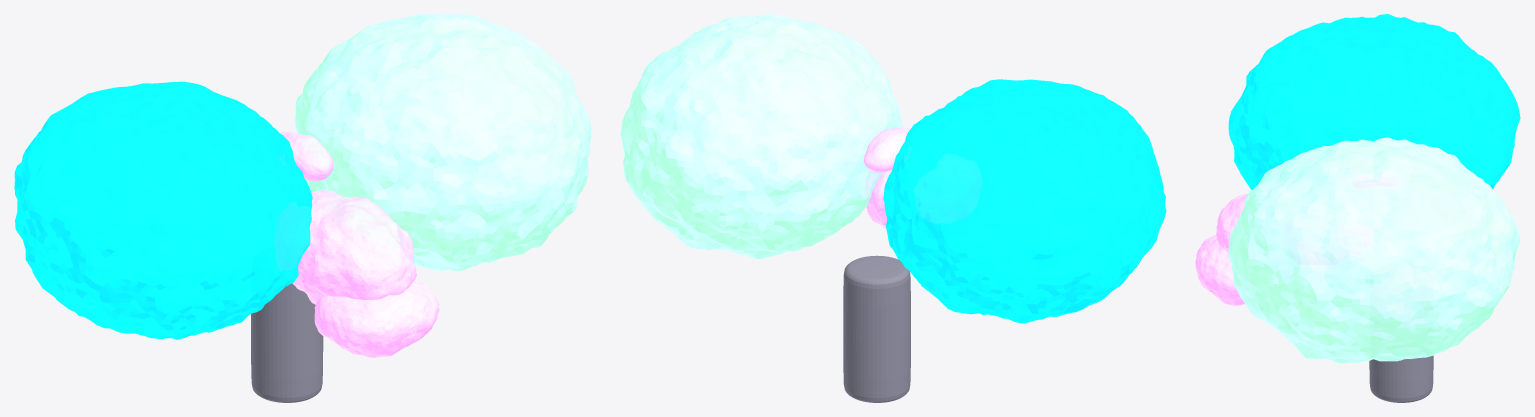
File: brain.glb
3 views of the same model, side by side, from view 1: azimuth 30°, elevation 25°; view 2: azimuth 150°, elevation 25°; view 3: azimuth 270°, elevation 25° (orthographic). The views are drawn at different scales.
Parts seen in each view (by area): view 1: Zone1_Core_Left, Zone2_Skills_Right, Zone3_Sensitive_Central, Hirnstamm, Cerebellum_Sensitive, CorpusCallosum; view 2: Zone1_Core_Left, Zone2_Skills_Right, Hirnstamm, CorpusCallosum, Zone3_Sensitive_Central; view 3: Zone2_Skills_Right, Zone1_Core_Left, Hirnstamm, Cerebellum_Sensitive, Zone3_Sensitive_Central.
Part boxes in pixels (x1,y1,x2,y2): Zone1_Core_Left: [14, 81, 312, 339]; Zone2_Skills_Right: [295, 14, 591, 271]; Zone3_Sensitive_Central: [292, 190, 416, 304]; Hirnstamm: [251, 283, 323, 402]; Cerebellum_Sensitive: [314, 281, 439, 357]; CorpusCallosum: [280, 132, 333, 181]; Zone1_Core_Left: [883, 79, 1166, 323]; Zone2_Skills_Right: [620, 14, 901, 258]; Hirnstamm: [843, 255, 910, 402]; CorpusCallosum: [863, 127, 910, 172]; Zone3_Sensitive_Central: [866, 170, 891, 229]; Zone2_Skills_Right: [1228, 137, 1520, 363]; Zone1_Core_Left: [1228, 14, 1520, 189]; Hirnstamm: [1369, 355, 1433, 402]; Cerebellum_Sensitive: [1195, 234, 1244, 305]; Zone3_Sensitive_Central: [1216, 193, 1248, 252].
Size of the model in its own units: 5.9 by 3.6 by 3.49.
